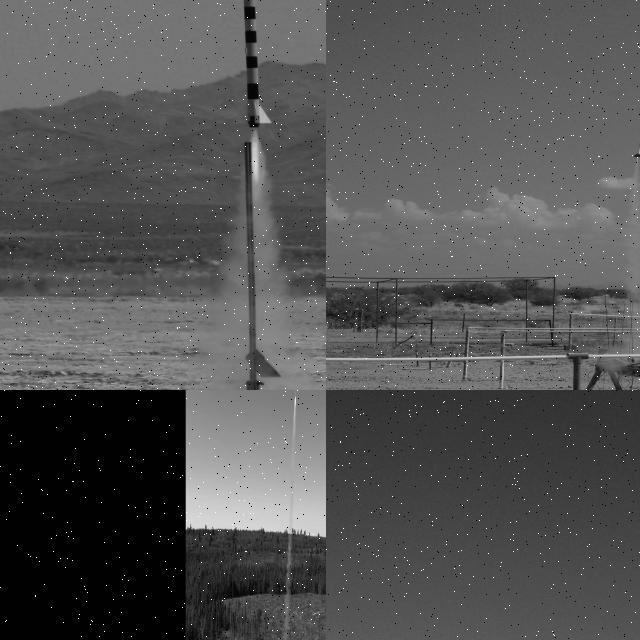Rocket: (230, 0, 275, 130), (633, 132, 640, 158), (294, 390, 296, 396)
